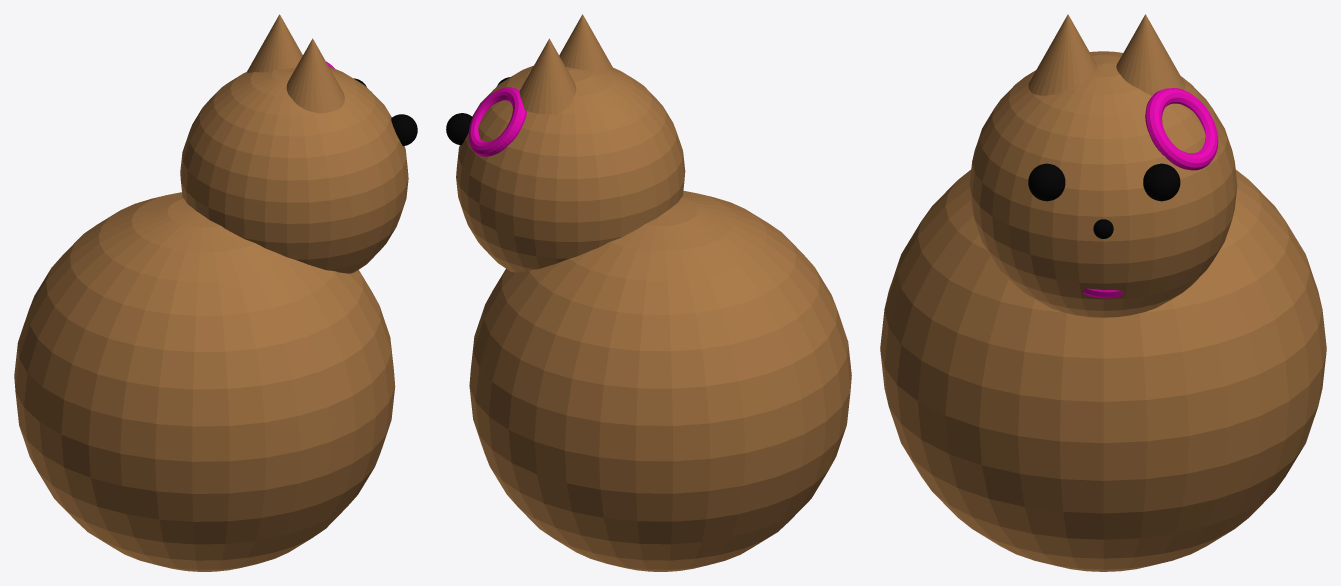
Rendered from kiyu.gltf.
3 views of the same model, side by side, from view 1: azimuth 30°, elevation 25°; view 2: azimuth 150°, elevation 25°; view 3: azimuth 270°, elevation 25° (orthographic). The views are drawn at different scales.
Visible parts, largest first — view 1: Sphère, Sphère.001, Cône, Cône.001, Sphère.002; view 2: Sphère, Sphère.001, Cône.001, Torus.001, Cône, Sphère.003; view 3: Sphère, Sphère.001, Cône, Torus.001, Cône.001, Sphère.002, Sphère.003.
Part boxes in pixels (box(x1,y1,x2,y2)): Sphère: box(14, 192, 395, 571); Sphère.001: box(180, 67, 408, 273); Cône: box(286, 38, 344, 113); Cône.001: box(247, 14, 302, 72); Sphère.002: box(391, 114, 417, 146); Sphère: box(469, 190, 851, 571); Sphère.001: box(456, 65, 685, 272); Cône.001: box(519, 38, 576, 114); Torus.001: box(468, 87, 526, 156); Cône: box(559, 14, 613, 70); Sphère.003: box(446, 113, 472, 145); Sphère: box(880, 169, 1326, 571); Sphère.001: box(969, 51, 1237, 317); Cône: box(1028, 14, 1096, 95); Torus.001: box(1145, 88, 1218, 170); Cône.001: box(1116, 14, 1184, 95); Sphère.002: box(1028, 163, 1065, 201); Sphère.003: box(1143, 163, 1180, 201).
Size of the model in its own units: 2.18 by 2.92 by 2.
